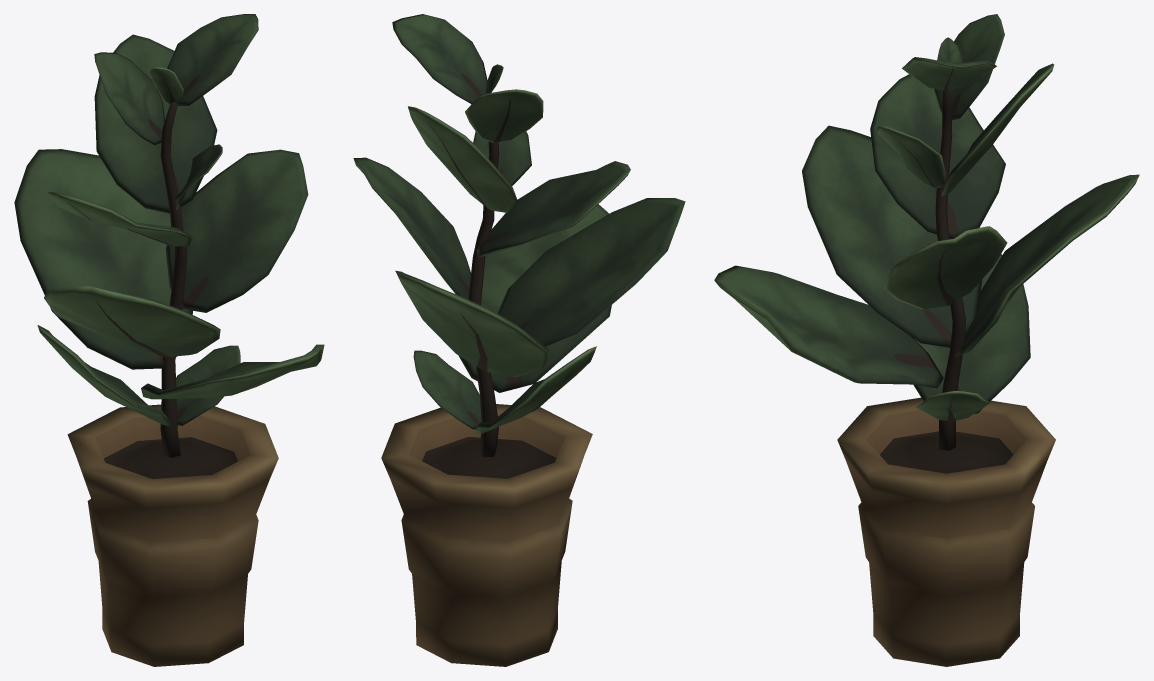
Rendered from lyrata.fbx.
3 views of the same model, side by side, from view 1: azimuth 30°, elevation 25°; view 2: azimuth 150°, elevation 25°; view 3: azimuth 270°, elevation 25° (orthographic). The views are drawn at different scales.
Visible parts, largest first — view 1: Cube; view 2: Cube; view 3: Cube.
Boxes of the visible parts, <box> form: Cube: <box>14,14,324,666</box>; Cube: <box>353,14,685,666</box>; Cube: <box>714,14,1139,666</box>.
Bounding box in the file's own units: 403 × 812 × 510.
